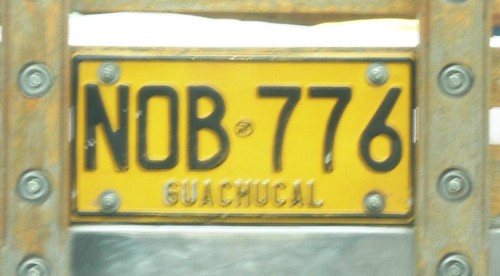placa_carro: (61, 42, 420, 234)
